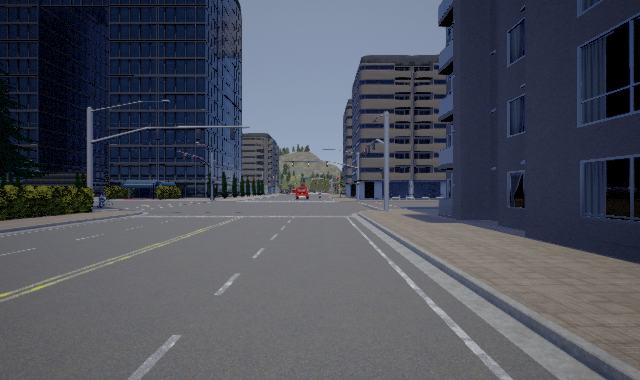traffic_light: (363, 145, 370, 156), (371, 140, 375, 150), (326, 161, 328, 167), (292, 161, 294, 167), (366, 148, 369, 152)
vehicle: (294, 186, 310, 201)
